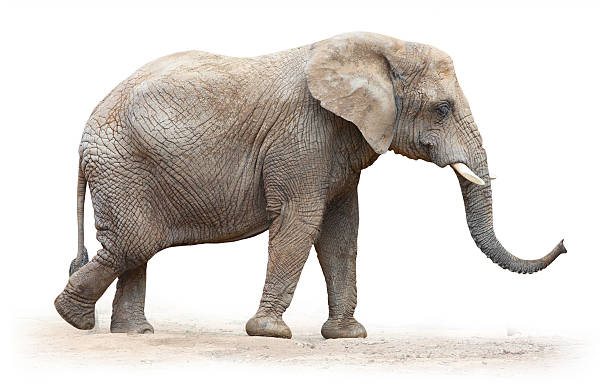africanelephant: (313, 23, 514, 225)
